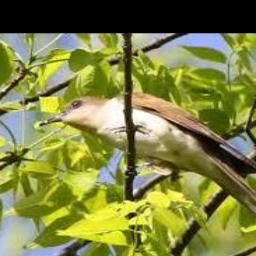Cuckoo: (39, 93, 256, 237)
